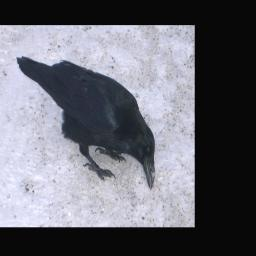Crow: (15, 56, 155, 189)
